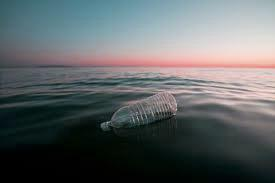Plastic: (85, 78, 192, 152)
